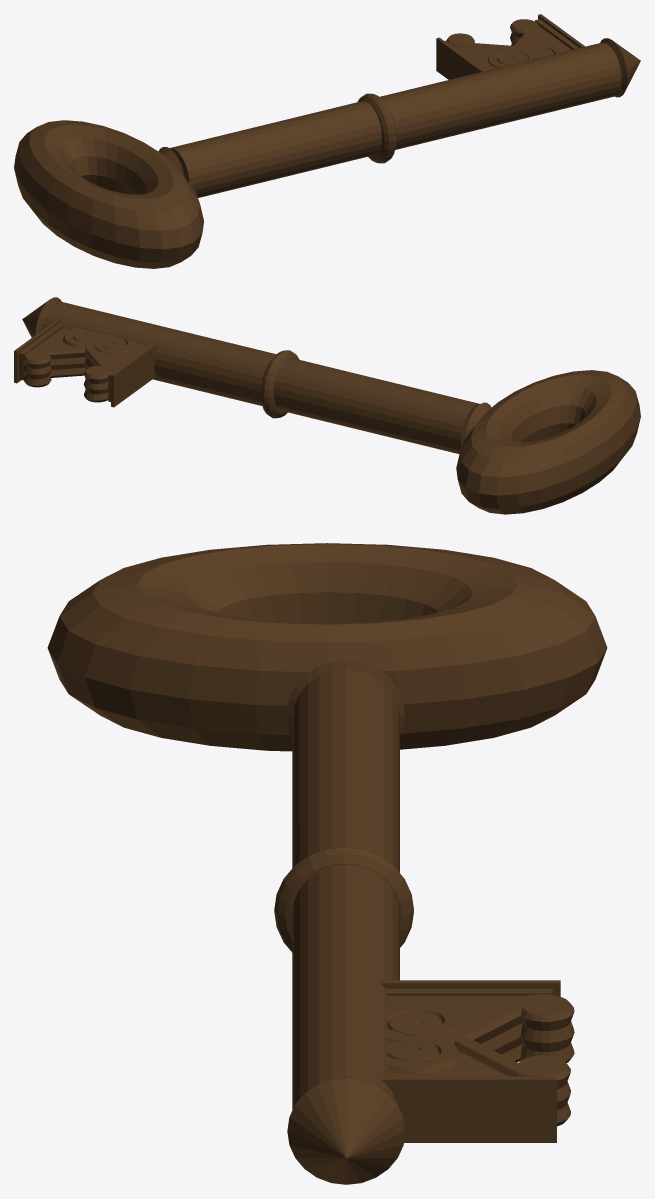
Rendered from Key Stephan Mette  N300412.obj.
3 renders of one model, top to bottom at view 1: azimuth 30°, elevation 25°; view 2: azimuth 150°, elevation 25°; view 3: azimuth 270°, elevation 25°, orthographic. The views are drawn at different scales.
Parts seen in each view (by area): view 1: Object.4, Object.9, Object.2, Object.1, Object.3, Object.7, Object.8; view 2: Object.4, Object.9, Object.2, Object.1, Object.3, Object.6, Object.8; view 3: Object.9, Object.4, Object.1, Object.2, Object.8, Object.3, Object.5.
Boxes of the visible parts, left/top/right/bottom form: Object.4: left=169, top=42, right=621, bottom=197; Object.9: left=14, top=120, right=203, bottom=268; Object.2: left=436, top=33, right=536, bottom=79; Object.1: left=510, top=14, right=584, bottom=60; Object.3: left=357, top=93, right=396, bottom=163; Object.7: left=600, top=38, right=627, bottom=97; Object.8: left=613, top=41, right=640, bottom=89; Object.4: left=41, top=301, right=479, bottom=454; Object.9: left=456, top=370, right=640, bottom=514; Object.2: left=84, top=333, right=158, bottom=407; Object.1: left=14, top=319, right=110, bottom=387; Object.3: left=260, top=350, right=299, bottom=418; Object.6: left=465, top=403, right=491, bottom=437; Object.8: left=22, top=300, right=48, bottom=337; Object.9: left=47, top=543, right=607, bottom=751; Object.4: left=292, top=669, right=399, bottom=1109; Object.1: left=381, top=1030, right=570, bottom=1142; Object.2: left=379, top=980, right=574, bottom=1062; Object.8: left=287, top=1078, right=405, bottom=1184; Object.3: left=274, top=846, right=413, bottom=952; Object.5: left=286, top=660, right=404, bottom=734.
Size of the model in its own units: 96.05 by 10.49 by 40.
